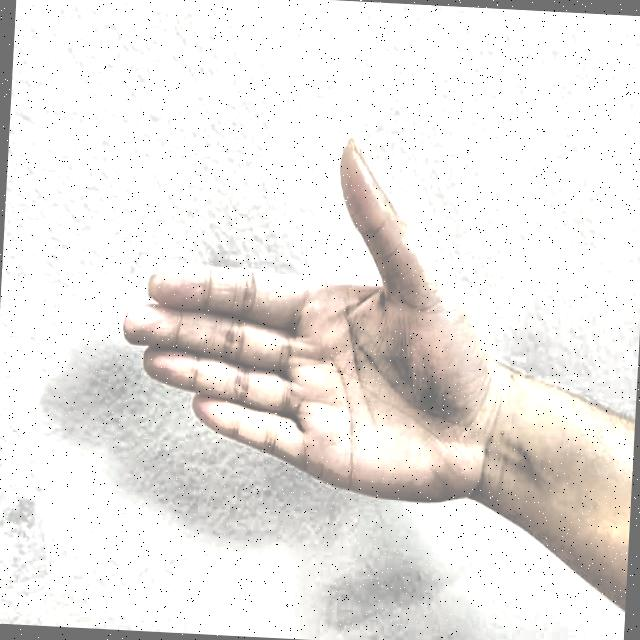Aa: (93, 114, 501, 546)
